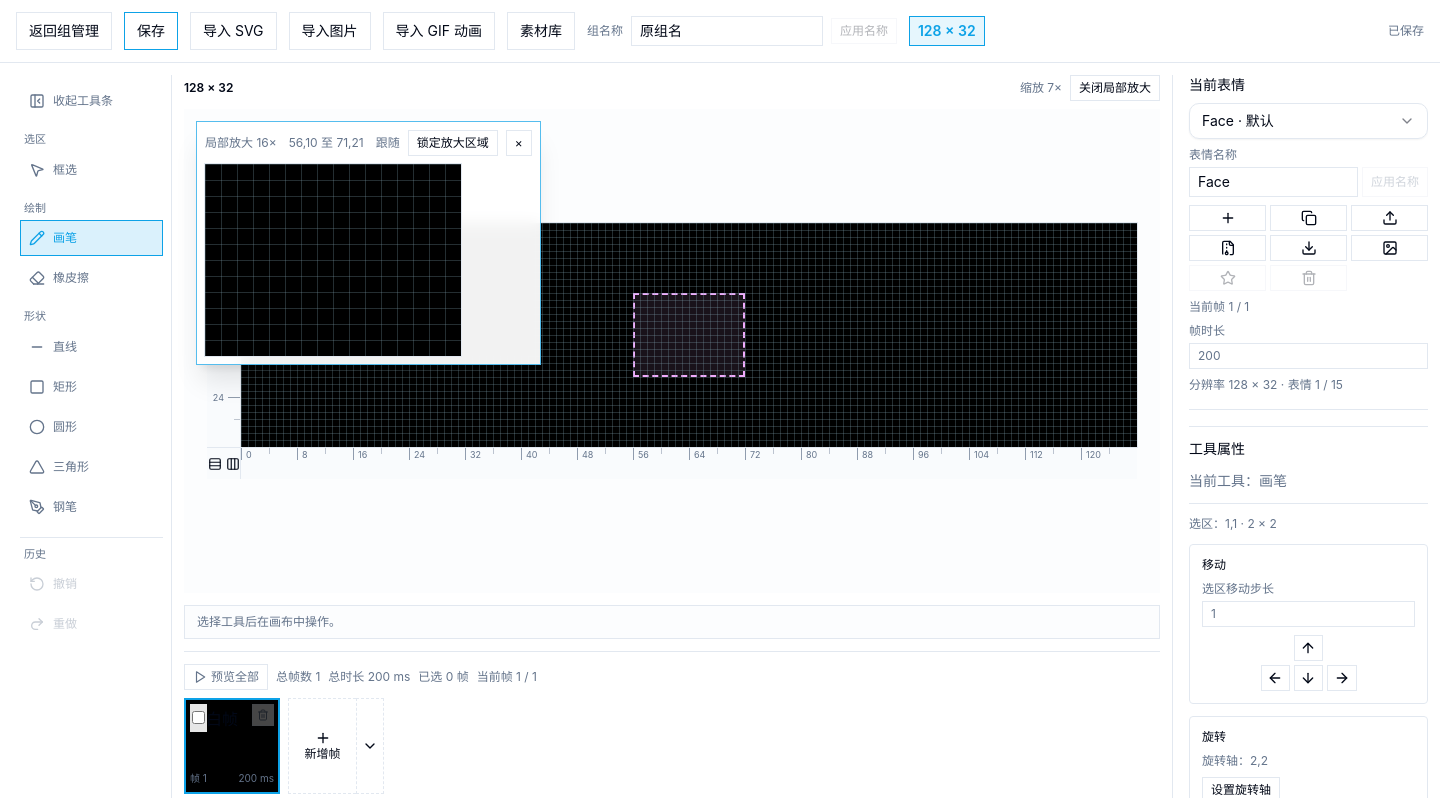
separates move, rotation, and selection actions
This screenshot has width=1440, height=810.
Expected: the element "移动" is shown, 1189,544 -> 1428,704
Click the button named "向右移动选区". click: (1342, 678)
box: 1327,665 -> 1356,691
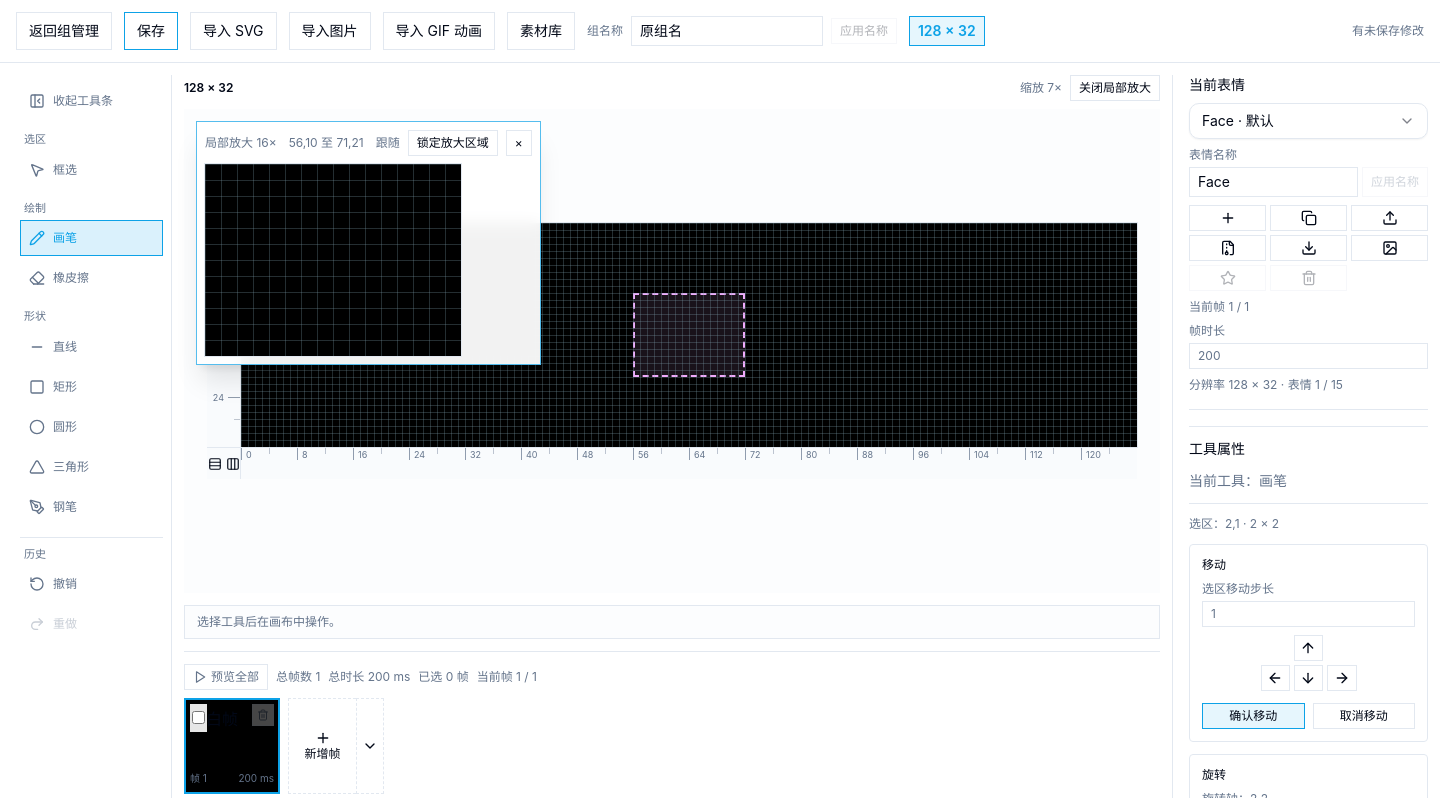
Expected: the button "确认移动" is shown, 1202,703 -> 1304,729
Expected: the button "取消移动" is shown
Click the button "取消移动". click: (1364, 716)
box: 1312,703 -> 1415,729
(page scrolled)
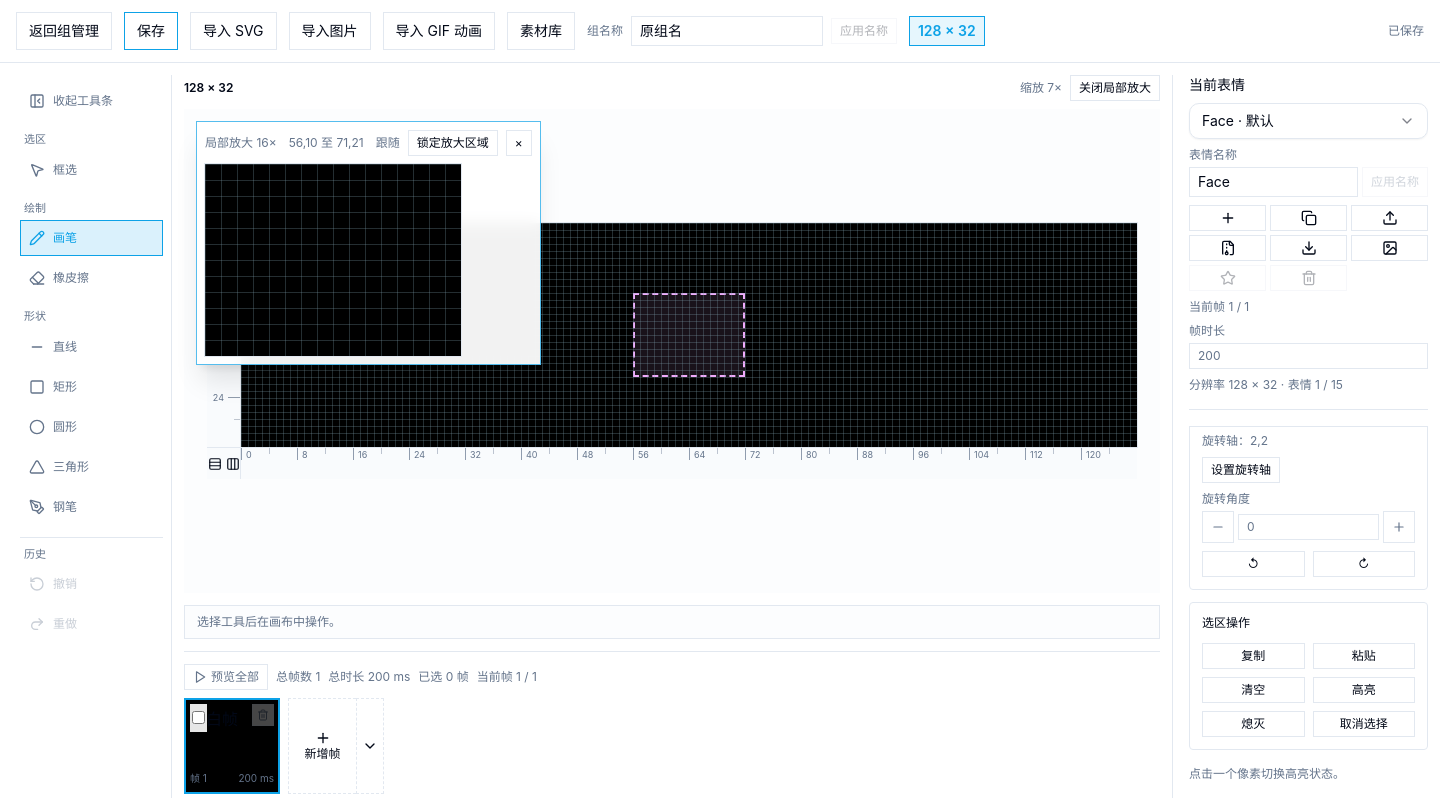
Expected: the button "取消选择" is enabled, 1312,711 -> 1415,737
